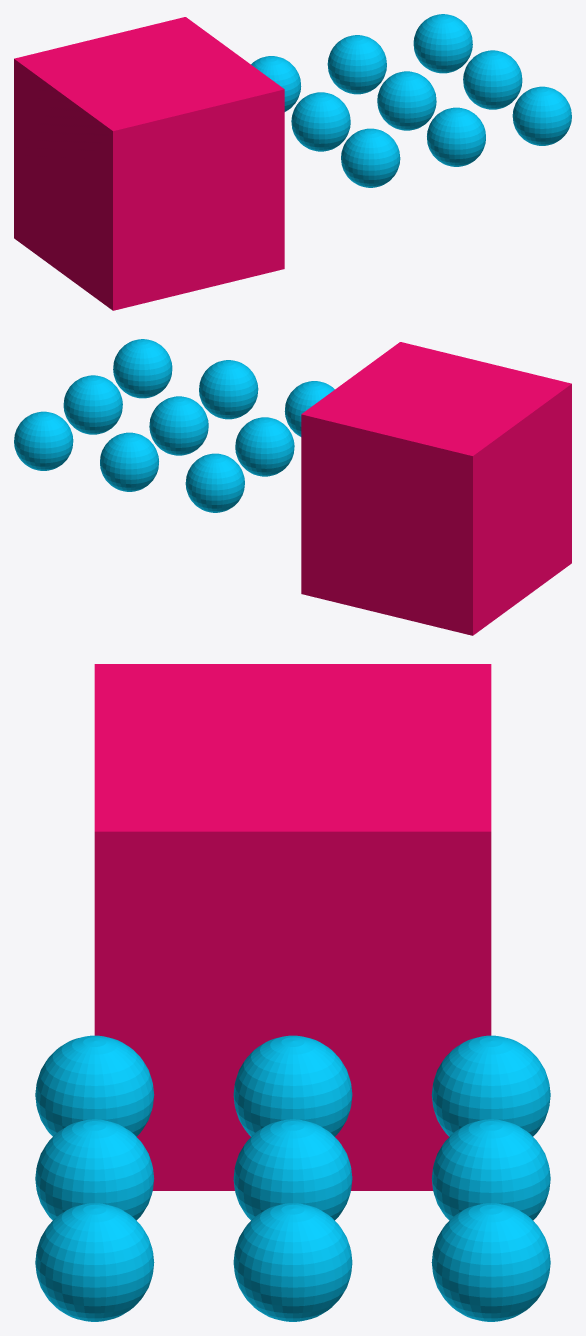
3 views of the same model, one above another, from view 1: azimuth 30°, elevation 25°; view 2: azimuth 150°, elevation 25°; view 3: azimuth 270°, elevation 25° (orthographic). The views are drawn at different scales.
Visible parts, largest first — view 1: Wuerfel, Kugel 3, Kugel 4, Kugel 7, Kugel 0, Kugel 8, Kugel 2, Kugel 5, Kugel 1, Kugel 6; view 2: Wuerfel, Kugel 3, Kugel 4, Kugel 1, Kugel 2, Kugel 6, Kugel 8, Kugel 5, Kugel 7, Kugel 0; view 3: Wuerfel, Kugel 5, Kugel 2, Kugel 8, Kugel 4, Kugel 0, Kugel 6, Kugel 1, Kugel 7, Kugel 3.
Part boxes in pixels (box(x1,y1,x2,y2)): Wuerfel: box(14, 17, 284, 310); Kugel 3: box(291, 92, 350, 151); Kugel 4: box(377, 71, 436, 130); Kugel 7: box(327, 35, 386, 94); Kugel 0: box(341, 128, 400, 187); Kugel 8: box(413, 14, 472, 73); Kugel 2: box(512, 86, 571, 145); Kugel 5: box(463, 50, 522, 109); Kugel 1: box(427, 107, 485, 166); Kugel 6: box(251, 56, 301, 111); Wuerfel: box(301, 342, 571, 635); Kugel 3: box(235, 417, 294, 476); Kugel 4: box(149, 396, 208, 455); Kugel 1: box(199, 360, 258, 419); Kugel 2: box(113, 339, 172, 398); Kugel 6: box(185, 453, 244, 512); Kugel 8: box(14, 411, 73, 470); Kugel 5: box(63, 375, 122, 434); Kugel 7: box(100, 432, 158, 491); Kugel 0: box(284, 381, 334, 436); Wuerfel: box(94, 664, 491, 1190); Kugel 5: box(233, 1203, 352, 1321); Kugel 2: box(35, 1203, 154, 1321); Kugel 8: box(431, 1203, 550, 1321); Kugel 4: box(233, 1119, 352, 1220); Kugel 0: box(35, 1035, 154, 1136); Kugel 6: box(431, 1035, 550, 1136); Kugel 1: box(35, 1119, 154, 1220); Kugel 7: box(431, 1119, 550, 1220); Kugel 3: box(233, 1035, 352, 1136).
Bounding box in the file's own units: 5.3 × 2 × 2.6.
